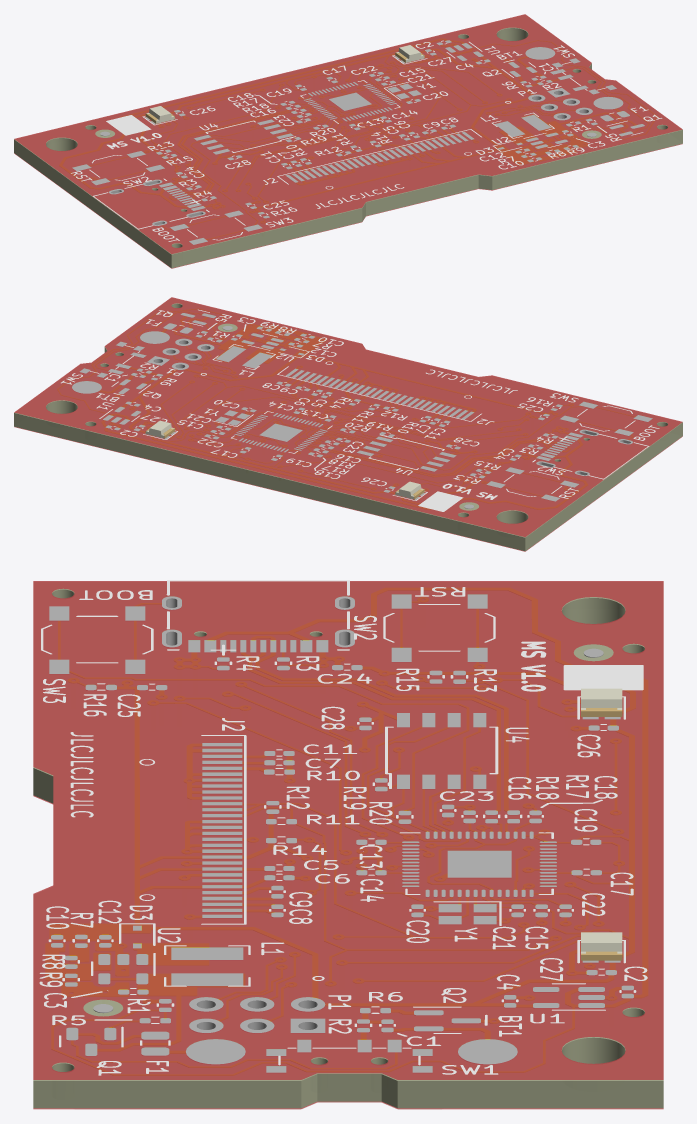
File: hello-my-name-is-pcb-badge.glb
3 renders of one model, top to bottom at view 1: azimuth 30°, elevation 25°; view 2: azimuth 150°, elevation 25°; view 3: azimuth 270°, elevation 25°, orthographic. The views are drawn at different scales.
Visible parts, largest first — view 1: =>[0:1:1:9], =>[0:1:1:3]; view 2: =>[0:1:1:9], =>[0:1:1:3]; view 3: =>[0:1:1:9], =>[0:1:1:3].
Boxes of the visible parts, <box> form: =>[0:1:1:9]: <box>14,14,682,268</box>; =>[0:1:1:3]: <box>59,39,662,261</box>; =>[0:1:1:9]: <box>14,297,682,551</box>; =>[0:1:1:3]: <box>57,309,671,511</box>; =>[0:1:1:9]: <box>33,581,663,1109</box>; =>[0:1:1:3]: <box>39,580,647,1109</box>.
Size of the model in its own units: 0.059 by 0.00322 by 0.0315.
2 materials, 2 textured.
